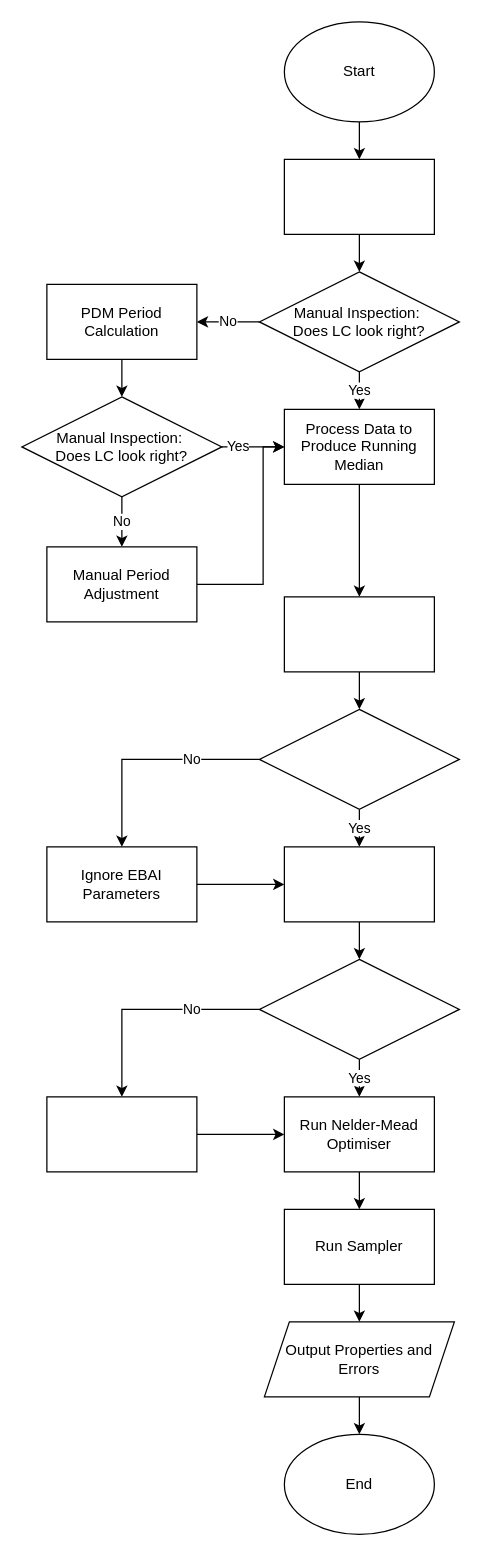
Image size: 481x1556. Some labels were removed from this diagram. Here are the shapes that lost their labels. From the top down, the box of each, then its label:
(283, 158, 434, 234): Lomb-Scargle Period Calculation
(283, 596, 434, 672): Run EBAI Estimator
(258, 708, 459, 809): EBAI Success?
(283, 846, 434, 922): Run LC Geometry Estimator
(258, 958, 459, 1059): LC Geometry Success?
(46, 1096, 197, 1172): Ignore LC Geometry Parameters
